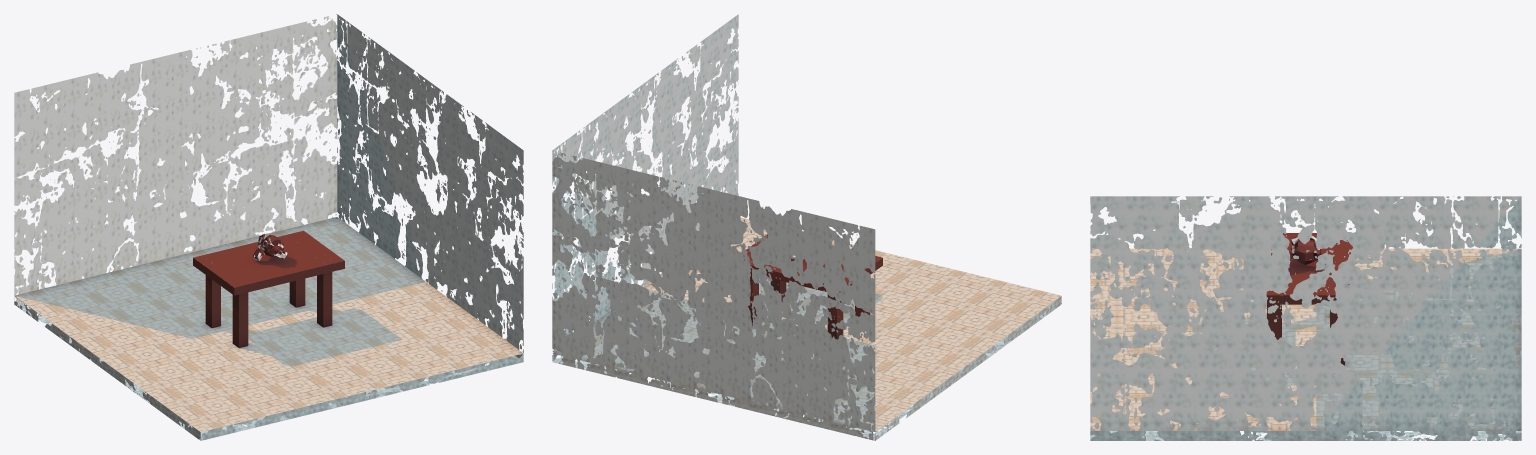
The model's file is room.obj.
3 views of the same model, side by side, from view 1: azimuth 30°, elevation 25°; view 2: azimuth 150°, elevation 25°; view 3: azimuth 270°, elevation 25° (orthographic). The views are drawn at different scales.
Parts seen in each view (by area): view 1: Cube_Cube.001; view 2: Cube_Cube.001; view 3: Cube_Cube.001.
Part boxes in pixels (x1=…): Cube_Cube.001: x1=14, y1=14, x2=523, y2=440; Cube_Cube.001: x1=552, y1=14, x2=1061, y2=440; Cube_Cube.001: x1=1090, y1=196, x2=1521, y2=440.
Bounding box in the file's own units: 10 × 6.26 × 10.
3 materials, 3 textured.
